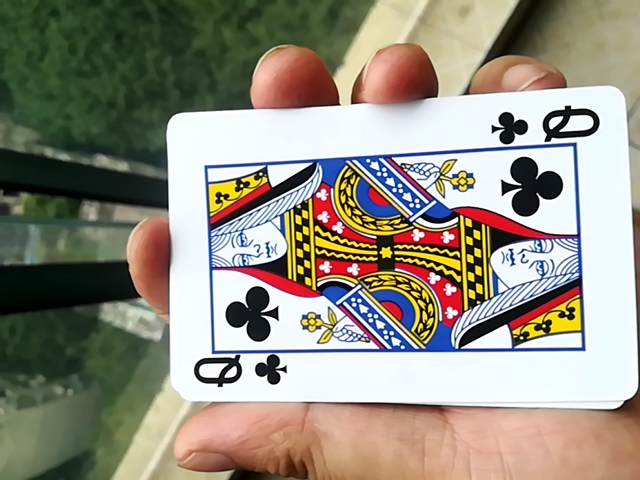mh q: (142, 96, 633, 417)
